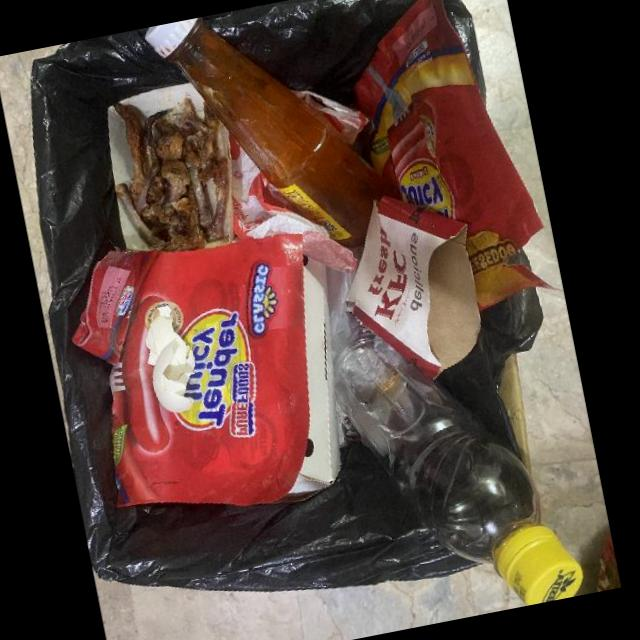bao_bi_thuc_pham: (72, 234, 309, 510), (353, 0, 558, 308)
carton: (343, 194, 479, 381)
chai_nhua_pet: (335, 329, 582, 606)
chai_thuy_tinh: (147, 17, 391, 261)
giay: (228, 131, 356, 275)
thuc_an_thua: (114, 99, 231, 251)
